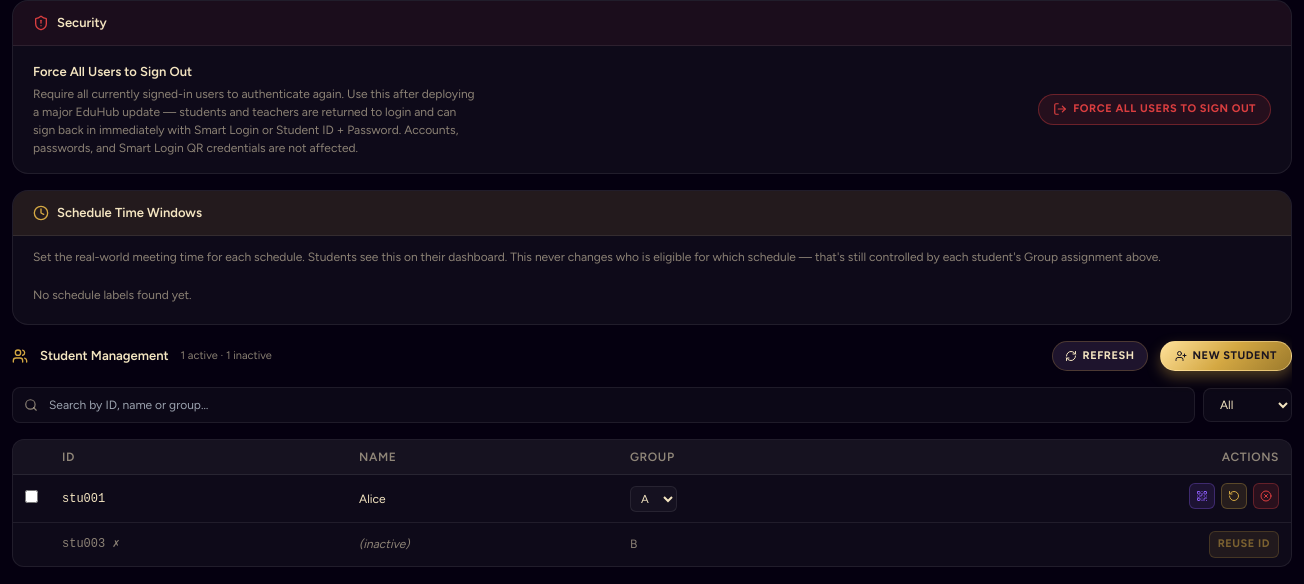
Test case: StudentManager — CreateForm reuse-slot purge checkbox (item 3) › submitting with the checkbox UNCHECKED (default) passes purgePreviousHistory:false
This screenshot has width=1304, height=584.
Later steps or results of the test are not shown.
Step 1. Click the button with test id "student-new-btn" → (1226, 356), box [1160,340,1292,371]
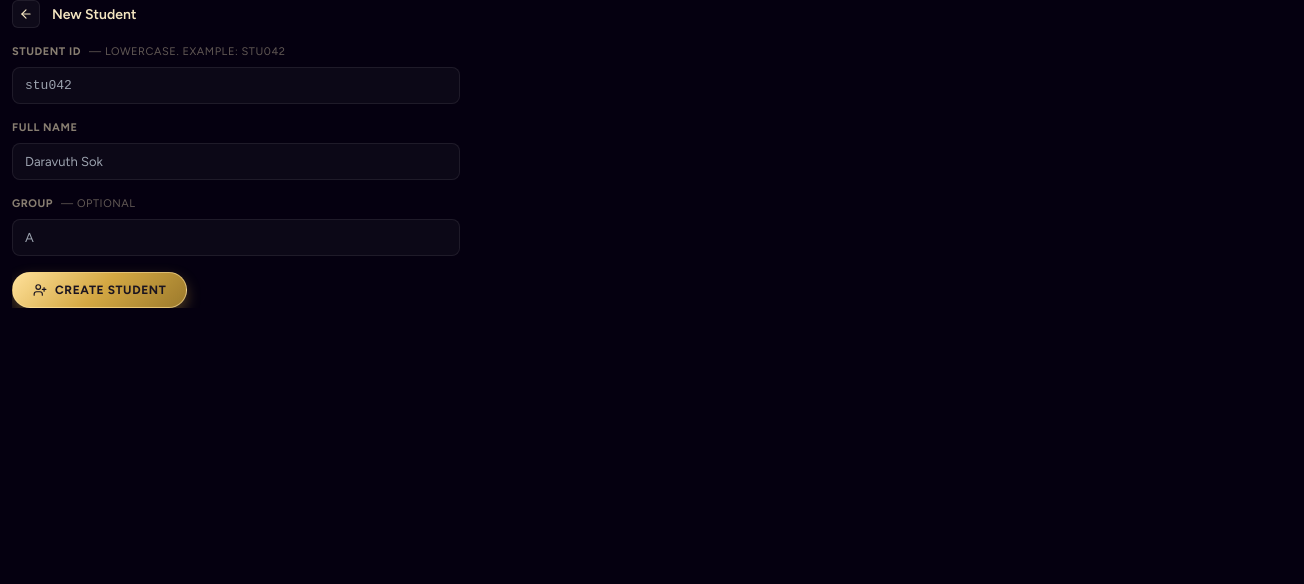
Step 2. Type "stu003" into the field with test id "student-create-id" → (236, 85), box [12,66,460,104]
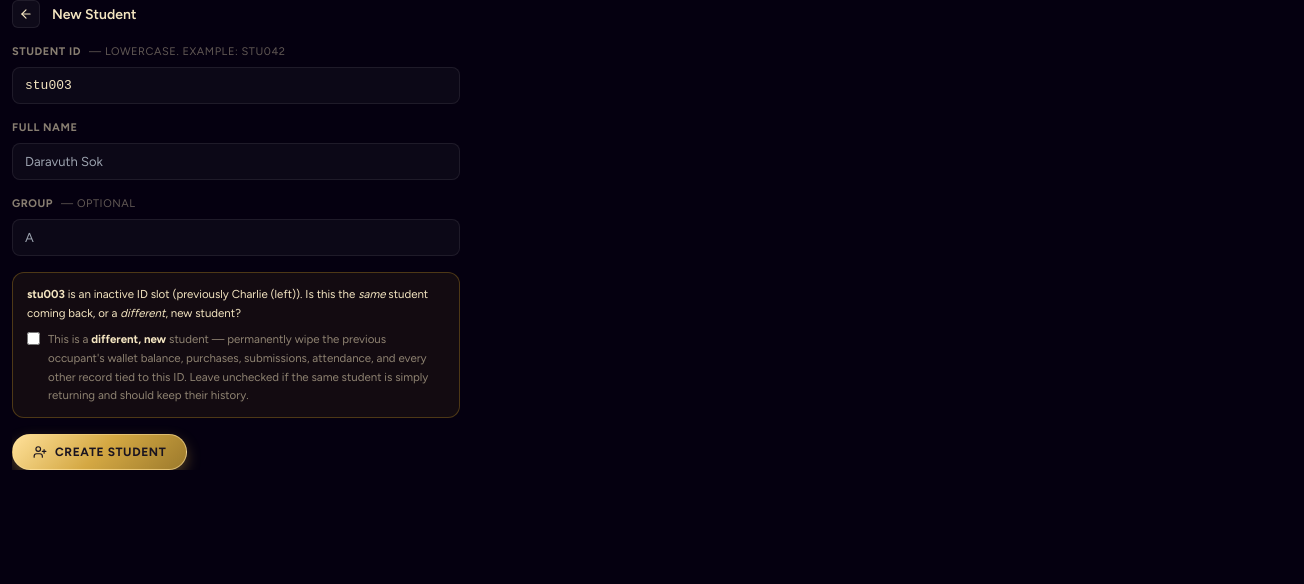
Step 3. Type "New Person" into the field with test id "student-create-name" → (236, 161), box [12,142,460,180]
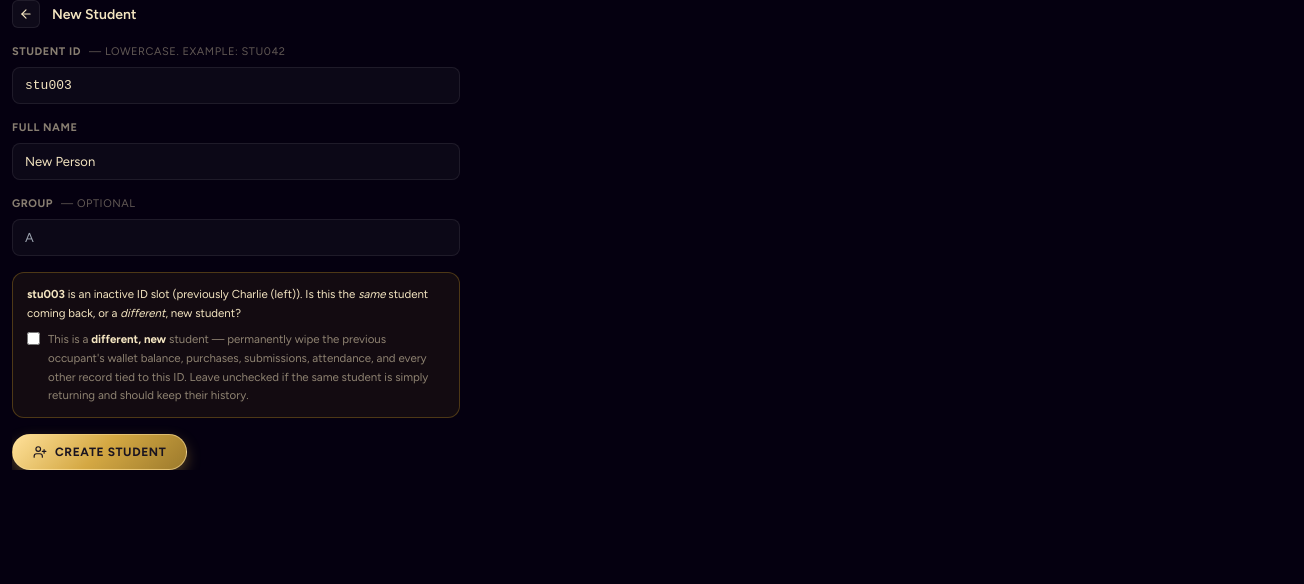
Result: the element with test id "student-reuse-slot-notice" is shown at [12,272,460,418]
